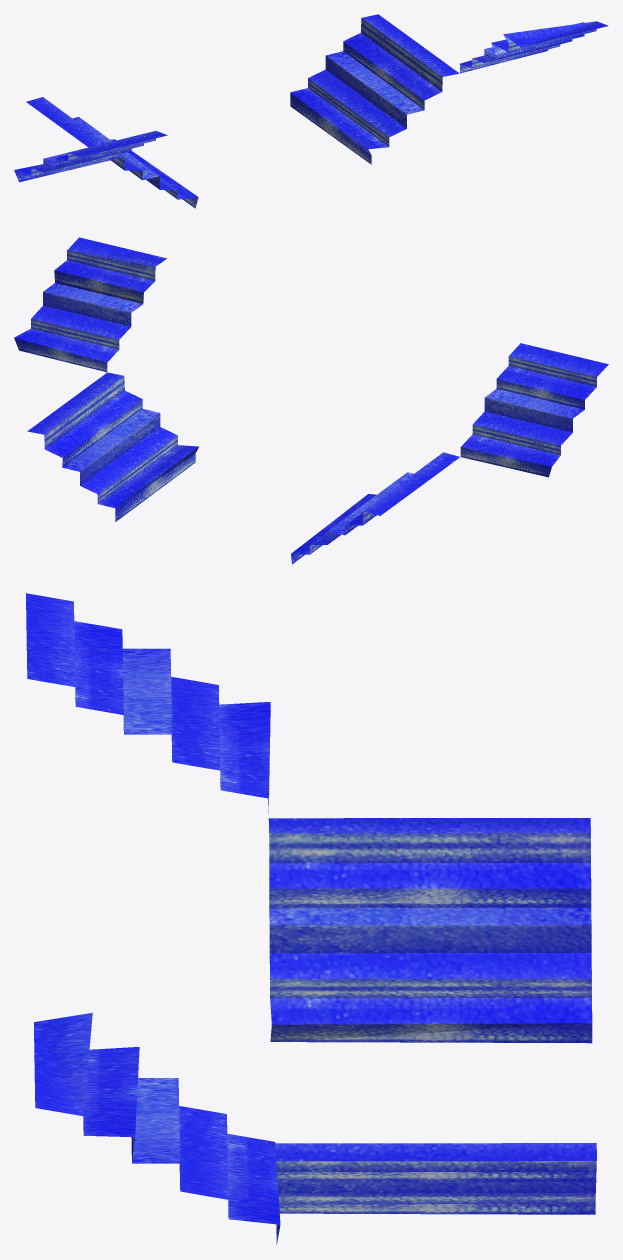
3 renders of one model, top to bottom at view 1: azimuth 30°, elevation 25°; view 2: azimuth 150°, elevation 25°; view 3: azimuth 270°, elevation 25°, orthographic. The views are drawn at different scales.
Size of the model in its own units: 0.8129 by 0.207 by 0.3753.
Materials: 1 (1 with a texture image).
